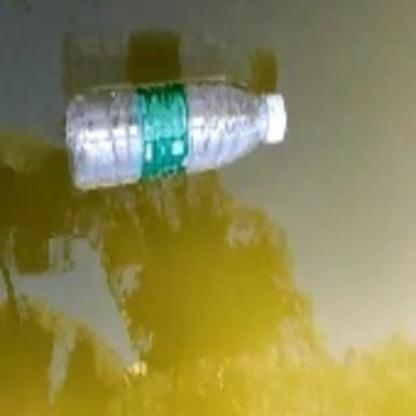plastic bottle: (63, 81, 288, 190)
